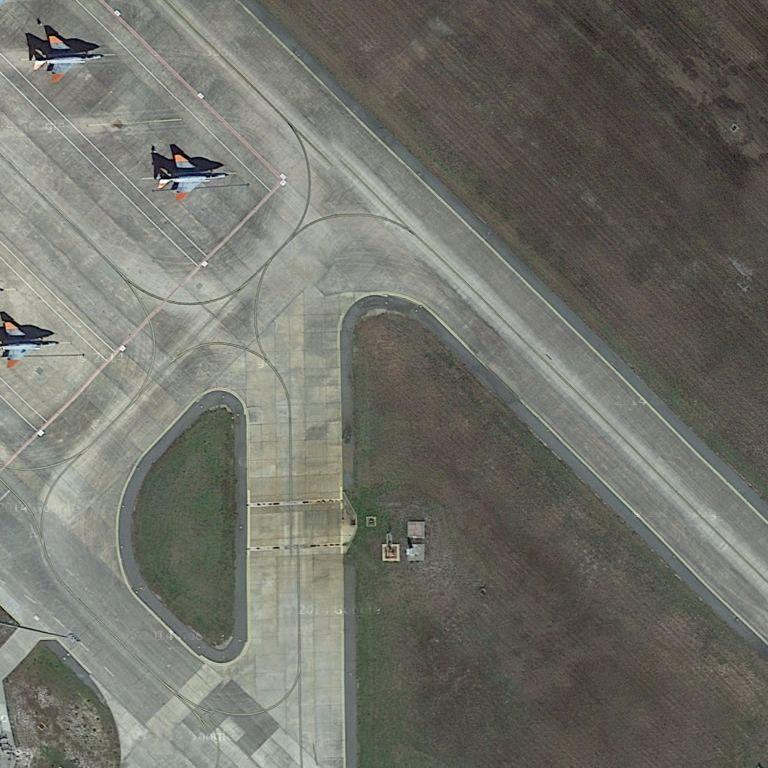plane: (23, 30, 114, 84), (149, 148, 239, 202), (2, 312, 63, 372)
